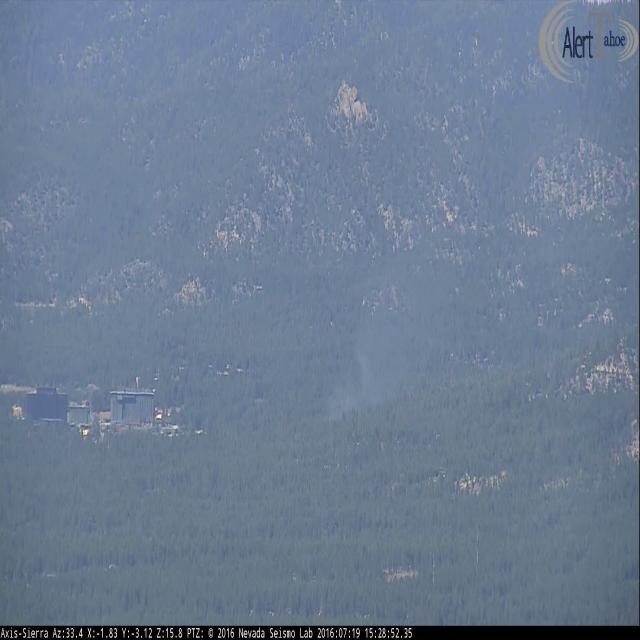smoke: (327, 274, 444, 423)
